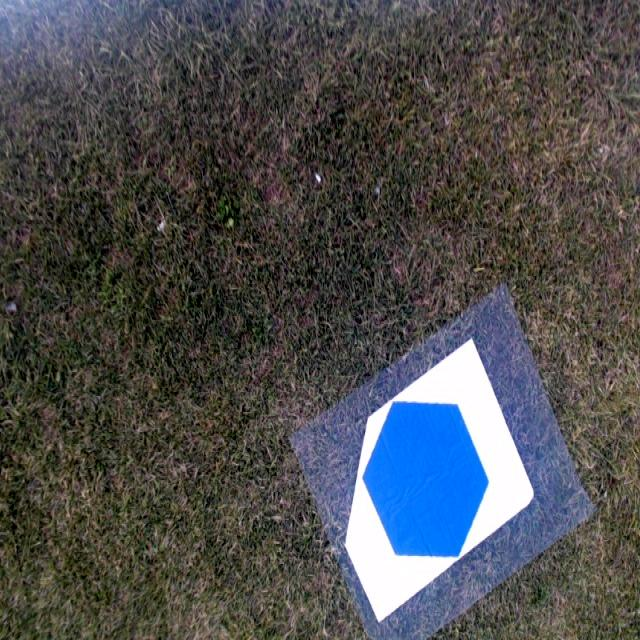blue_hexagon: (361, 399, 490, 558)
